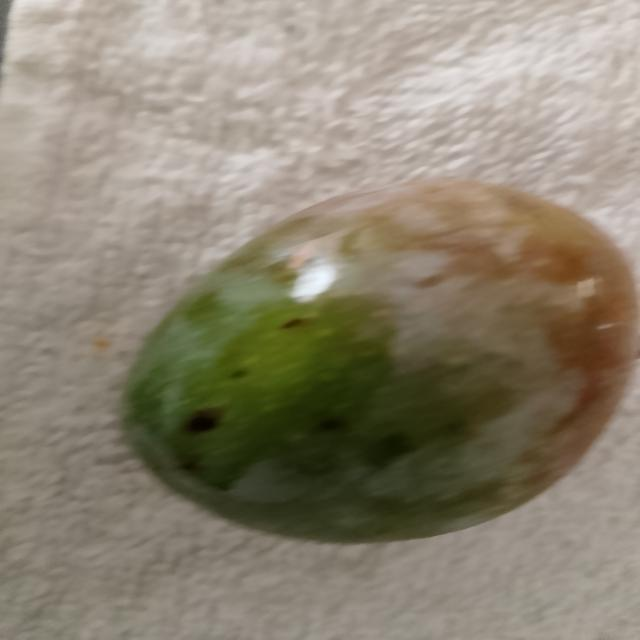mango: (111, 177, 640, 549)
